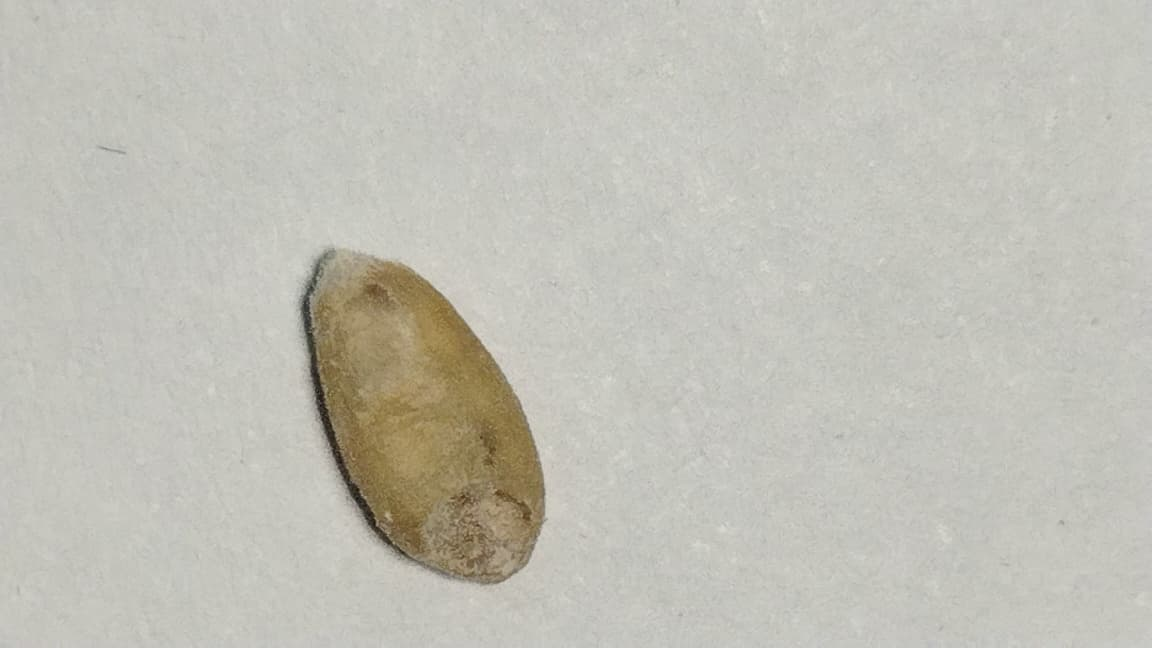damage: (309, 249, 543, 583)
insectdamage: (348, 284, 452, 430), (405, 462, 533, 580)
